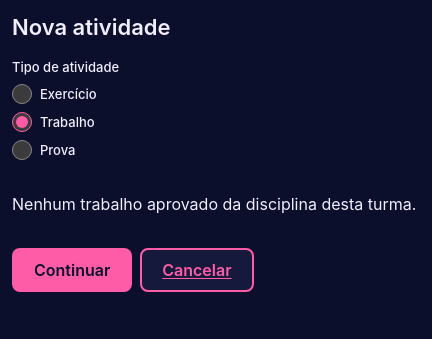
018/US2 NewActivity — aplicar uma prova do banco à turma › 018/FR-007 EXAM_NOT_APPROVED na verificação aparece em texto
This screenshot has width=432, height=339.
Click the radio button labelled "Prova". click: (22, 150)
box: [12,140,32,160]
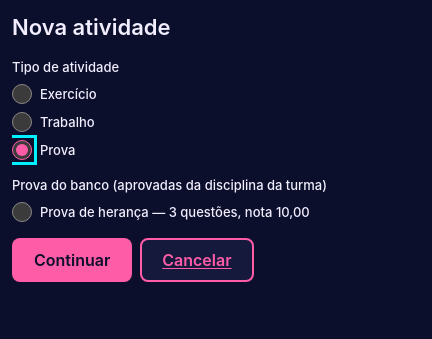
Click the radio button labelled "Prova de herança — 3 questões, nota 10,00". click: (22, 212)
box: [12,202,32,222]
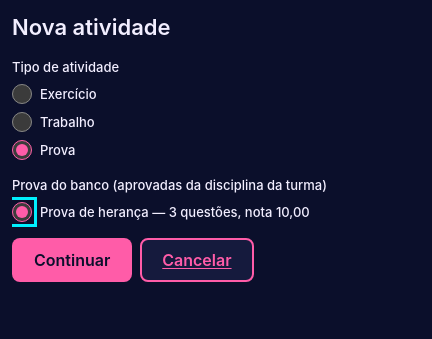
Click the button "Continuar". click: (72, 260)
box: [12,238,132,282]
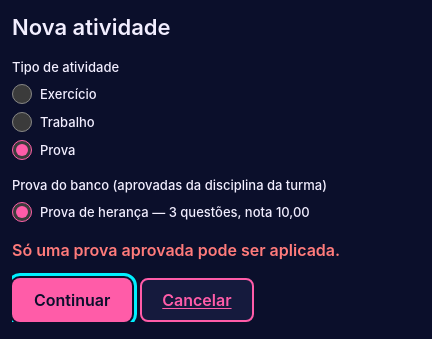
Expected: the message reads "Só uma prova aprovada pode ser aplicada.", [12,240,340,260]
